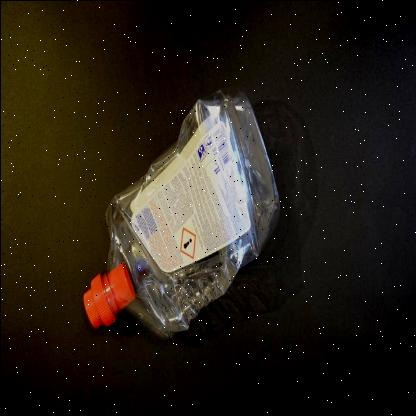Plastic Bottle: (82, 89, 278, 336)
